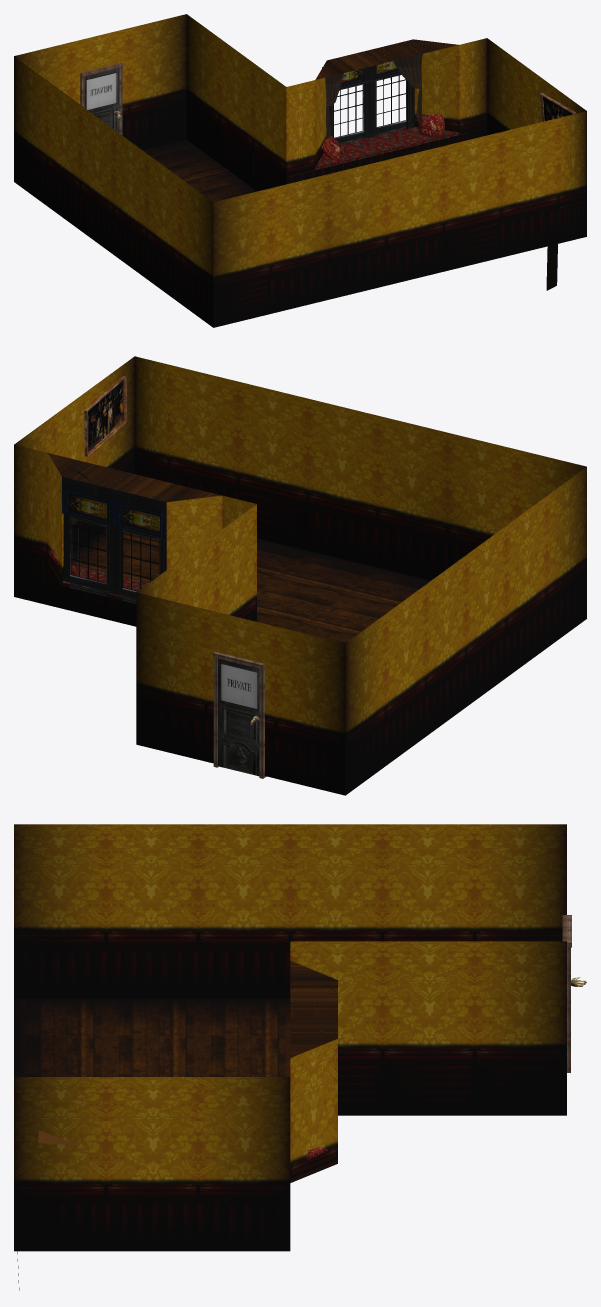
Rendered from save_room.glb.
3 renders of one model, top to bottom at view 1: azimuth 30°, elevation 25°; view 2: azimuth 150°, elevation 25°; view 3: azimuth 270°, elevation 25°, orthographic. The views are drawn at different scales.
Visible parts, largest first — view 1: room-col, Cube.004, doorframe, Cube.003, pillow_a.001; view 2: room-col, Cube.004, Cube.003, doorframe; view 3: room-col, doorframe.
Boxes of the visible parts, x1=… form: room-col: x1=14, y1=14, x2=586, y2=327; Cube.004: x1=85, y1=68, x2=121, y2=132; doorframe: x1=80, y1=63, x2=122, y2=135; Cube.003: x1=539, y1=92, x2=575, y2=121; pillow_a.001: x1=418, y1=114, x2=444, y2=137; room-col: x1=14, y1=356, x2=586, y2=795; Cube.004: x1=218, y1=658, x2=259, y2=776; Cube.003: x1=84, y1=376, x2=126, y2=456; doorframe: x1=213, y1=651, x2=266, y2=778; room-col: x1=14, y1=824, x2=566, y2=1290; doorframe: x1=562, y1=915, x2=571, y2=1072.
Bounding box in the file's own units: 21.64 × 9.62 × 20.73.
12 materials, 12 textured.
